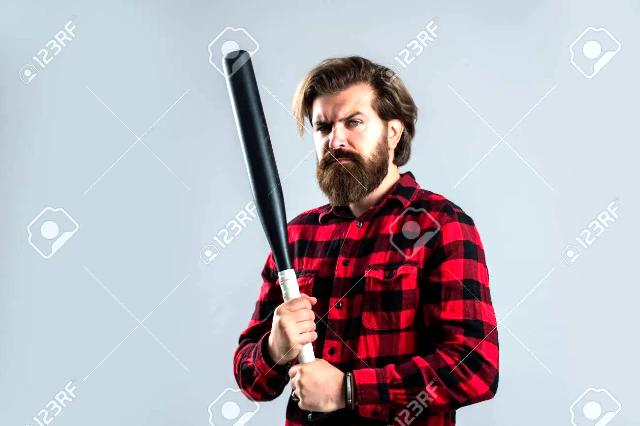baseball bat: (220, 49, 334, 419)
